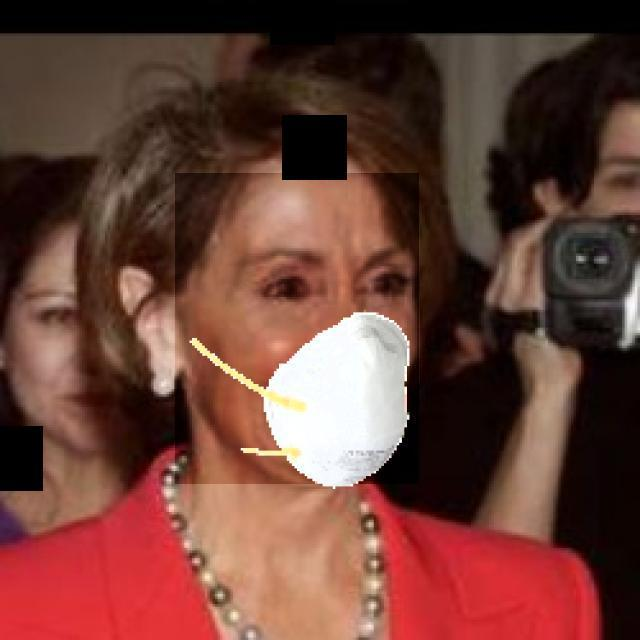n95: (175, 173, 419, 484)
